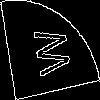W: (24, 25, 72, 80)
